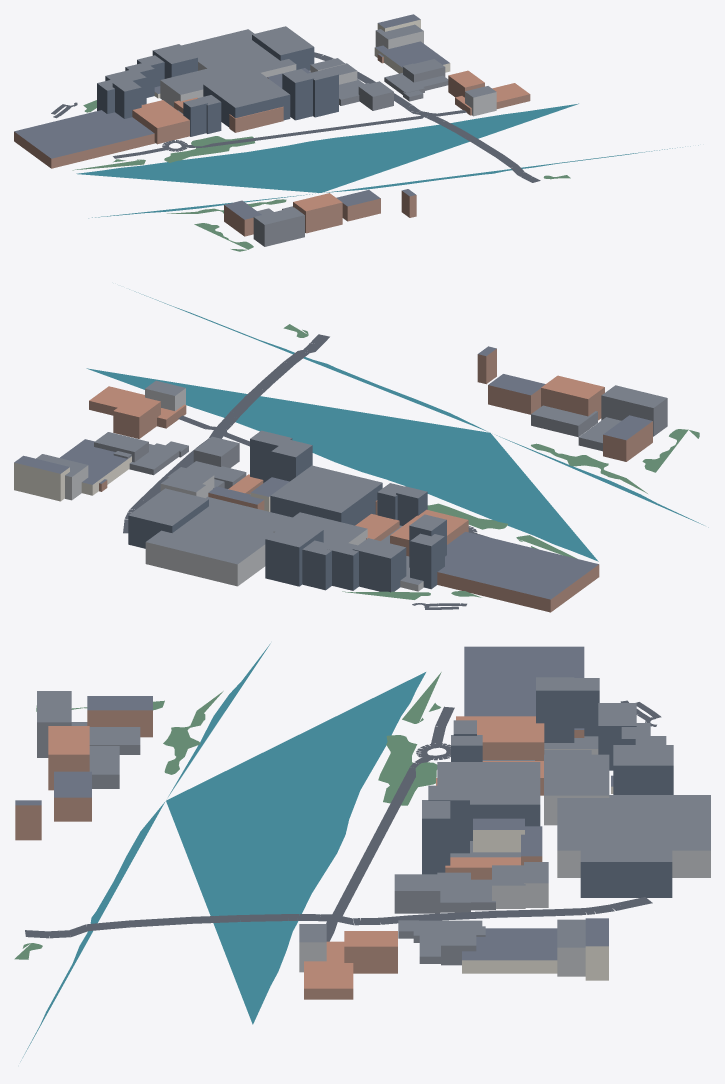
File: tile_3_4_lod1.glb
3 renders of one model, top to bottom at view 1: azimuth 30°, elevation 25°; view 2: azimuth 150°, elevation 25°; view 3: azimuth 270°, elevation 25°, orthographic. The views are drawn at different scales.
Parts seen in each view (by area): view 1: TileRoot; view 2: TileRoot; view 3: TileRoot.
Part boxes in pixels (bbox=[...]): TileRoot: bbox=[14, 14, 698, 251]; TileRoot: bbox=[14, 289, 708, 612]; TileRoot: bbox=[14, 643, 710, 1061].
Bounding box in the file's own units: 641 × 42.5 × 441.
